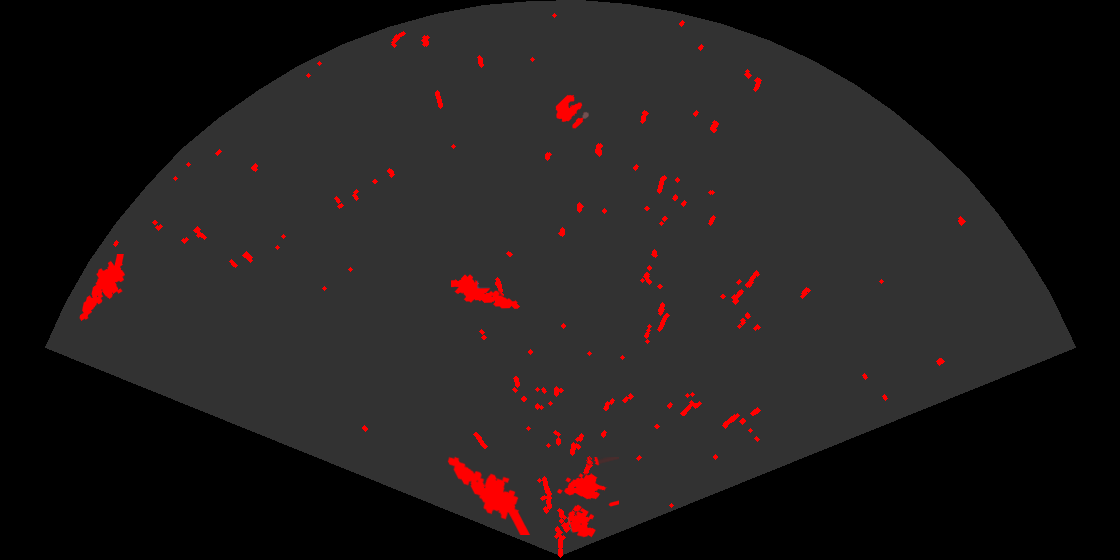ball: (554, 93, 590, 130)
cage: (555, 457, 619, 539)
frogman: (446, 455, 532, 535), (78, 254, 126, 323), (451, 273, 520, 311)
